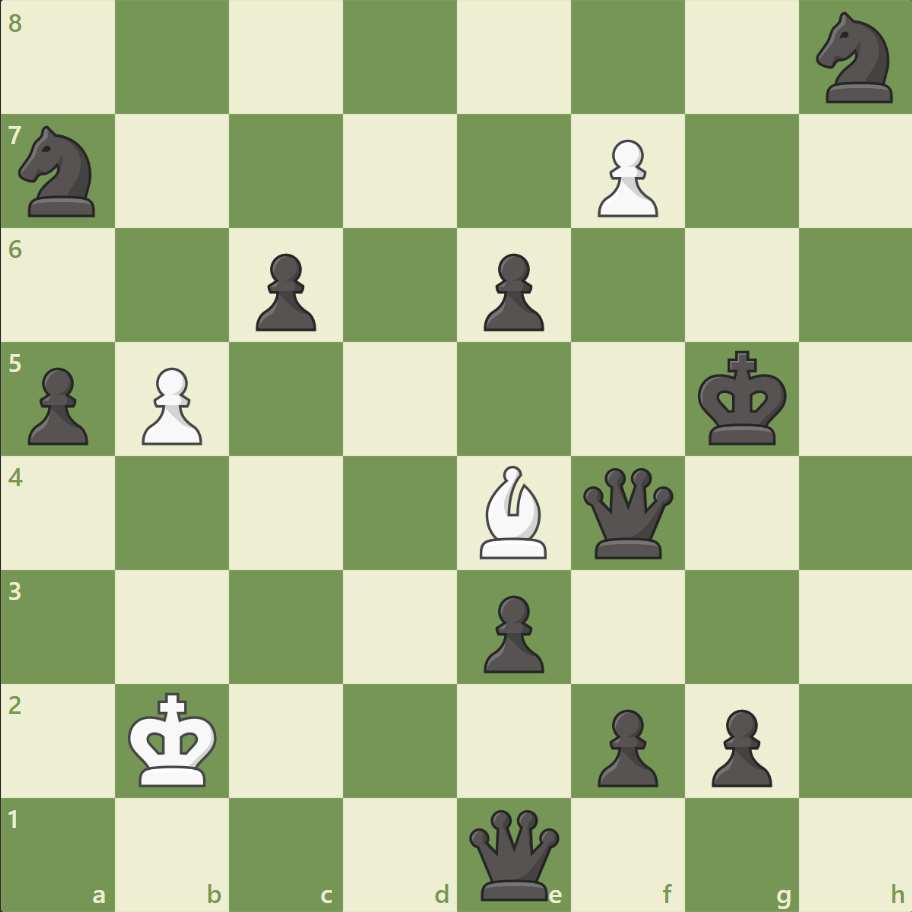B: (471, 460, 555, 563)
K: (124, 685, 224, 793)
P: (133, 359, 208, 450), (588, 132, 662, 223)
k: (692, 344, 792, 452)
n: (806, 7, 903, 110), (11, 121, 108, 223)
p: (247, 246, 322, 337), (474, 246, 549, 337), (20, 359, 95, 450), (474, 586, 549, 677), (701, 700, 776, 791), (588, 700, 662, 791)
q: (578, 463, 677, 562), (464, 804, 563, 903)
